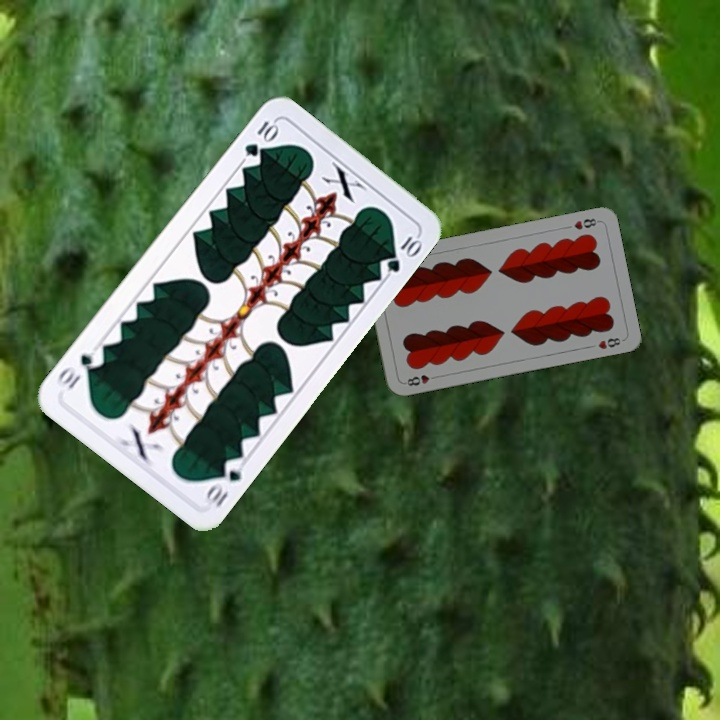G10: (200, 453, 245, 510), (240, 116, 281, 160)
H8: (400, 371, 441, 388), (570, 214, 602, 233)
